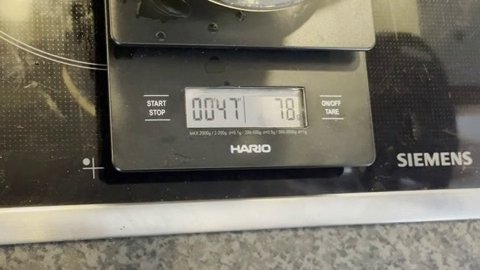display: (186, 86, 305, 127)
